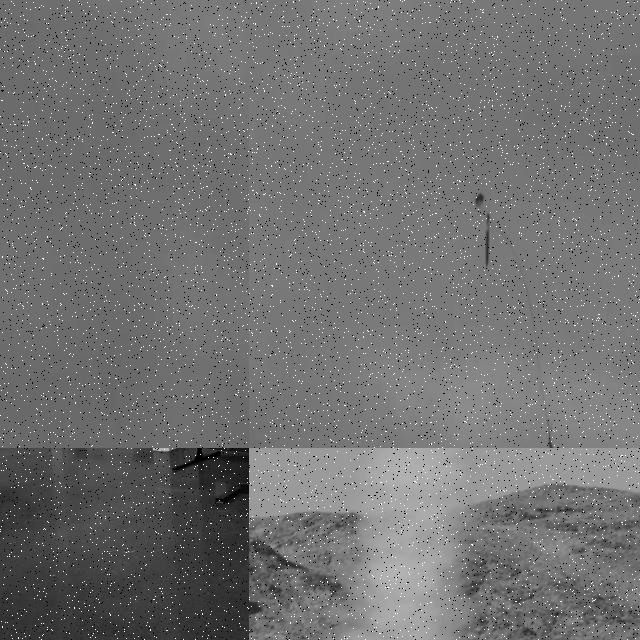Rocket: (548, 440, 562, 448)
